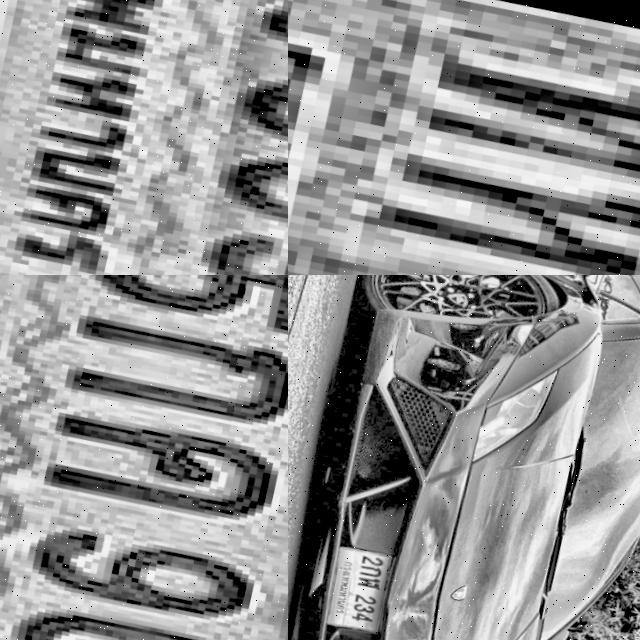license-plate: (0, 275, 288, 640), (288, 0, 640, 275), (0, 0, 288, 275), (308, 540, 398, 640)
